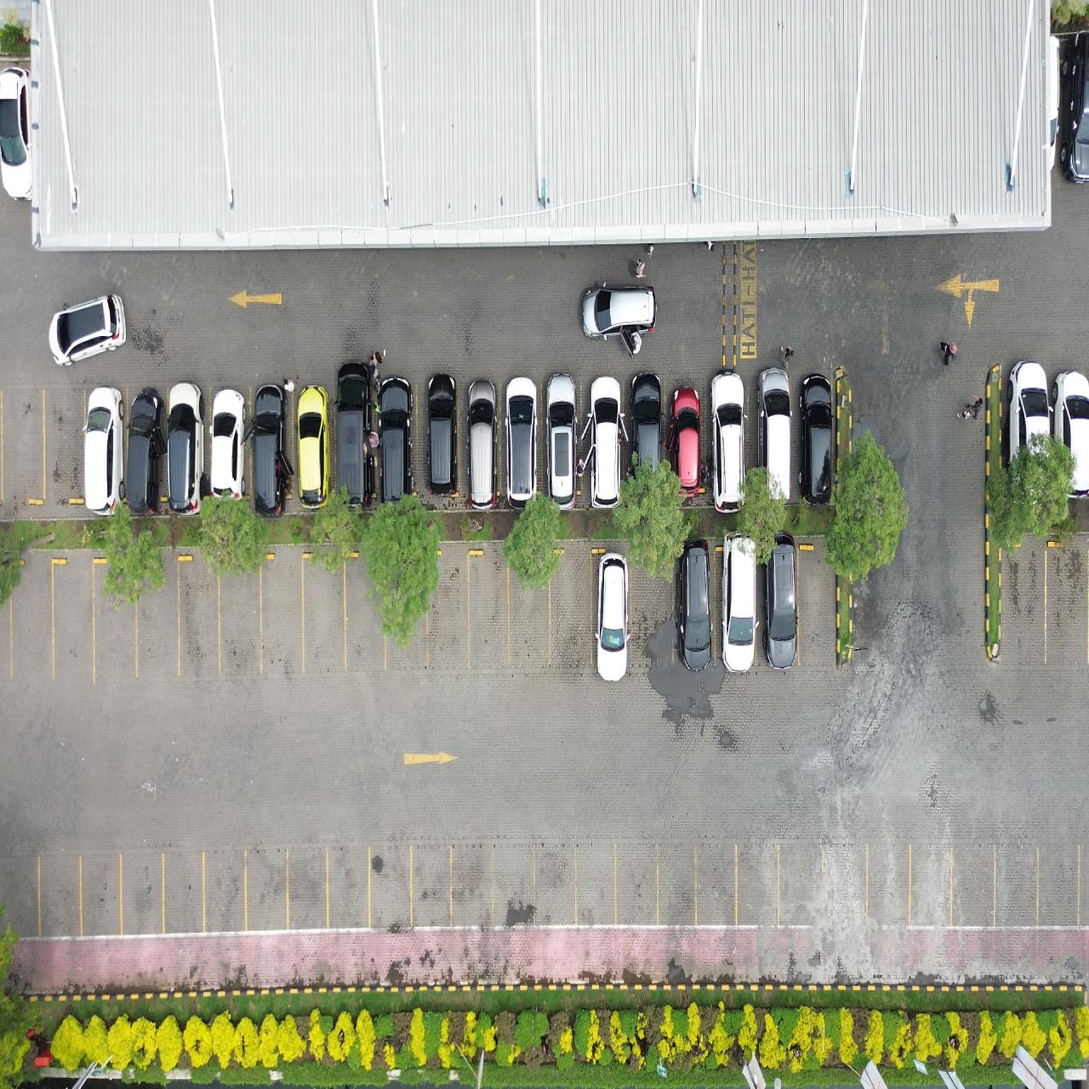cars: (168, 390, 207, 502), (335, 390, 374, 502), (666, 392, 705, 504), (717, 547, 756, 659), (583, 392, 622, 503), (86, 390, 124, 502), (251, 390, 289, 502), (418, 391, 456, 503), (502, 391, 540, 503), (751, 392, 789, 504), (127, 390, 165, 501), (292, 391, 330, 502), (377, 391, 415, 502), (459, 392, 497, 503), (543, 392, 581, 503), (625, 392, 663, 503), (708, 393, 746, 504), (792, 393, 830, 504), (759, 548, 797, 659), (593, 551, 631, 662), (210, 391, 247, 502), (677, 546, 714, 657)
empty: (387, 541, 428, 698), (633, 538, 674, 693), (305, 542, 345, 698), (221, 543, 262, 695), (346, 542, 386, 697), (97, 545, 137, 699), (138, 546, 179, 696), (429, 541, 468, 698), (263, 543, 303, 696), (510, 537, 548, 696), (471, 538, 509, 697), (552, 537, 590, 694), (12, 549, 52, 698), (55, 548, 94, 700), (181, 543, 219, 696), (44, 365, 83, 507), (5, 364, 43, 508), (800, 538, 836, 682)
